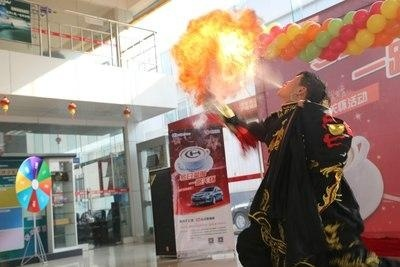fire: (171, 4, 271, 111)
